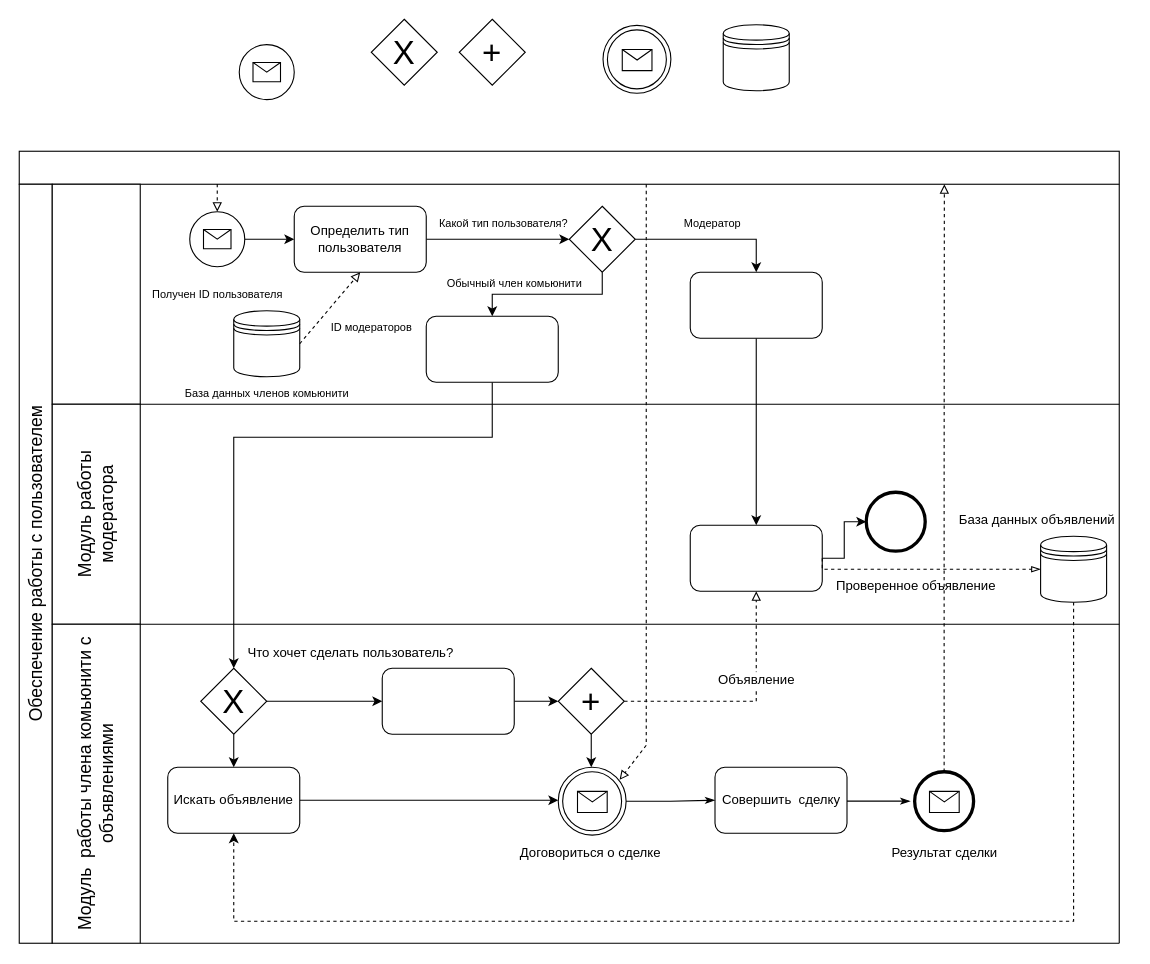
Some shapes in this 1150 by 964 pixel diagram are drawn without their labels. The shapes that lost their labels are listed below. From the top down, each one's centre as x and y in pixels, then its label:
At pixel 568 167: "Пользователь".
At pixel 95 293: "Модуль определения типа пользователя".
At pixel 755 304: "Сделать запрос в модуль работы модератора".
At pixel 491 348: "Сделать запрос в модуль".
At pixel 755 557: "Проверить объявление".
At pixel 447 700: "Создать объявление".
